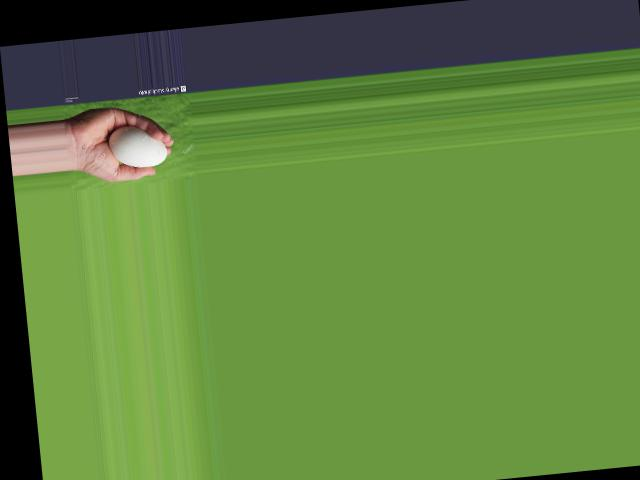egg: (105, 121, 167, 170)
